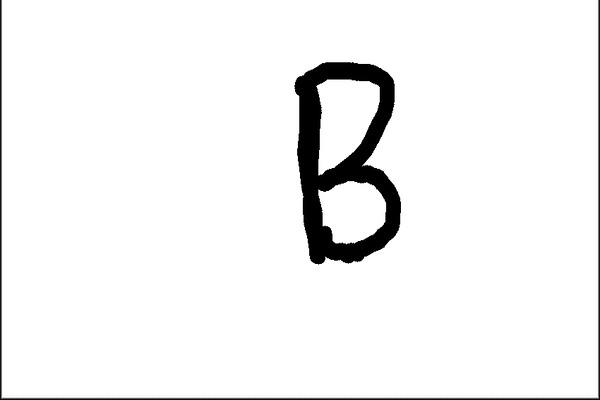B: (286, 55, 406, 266)
